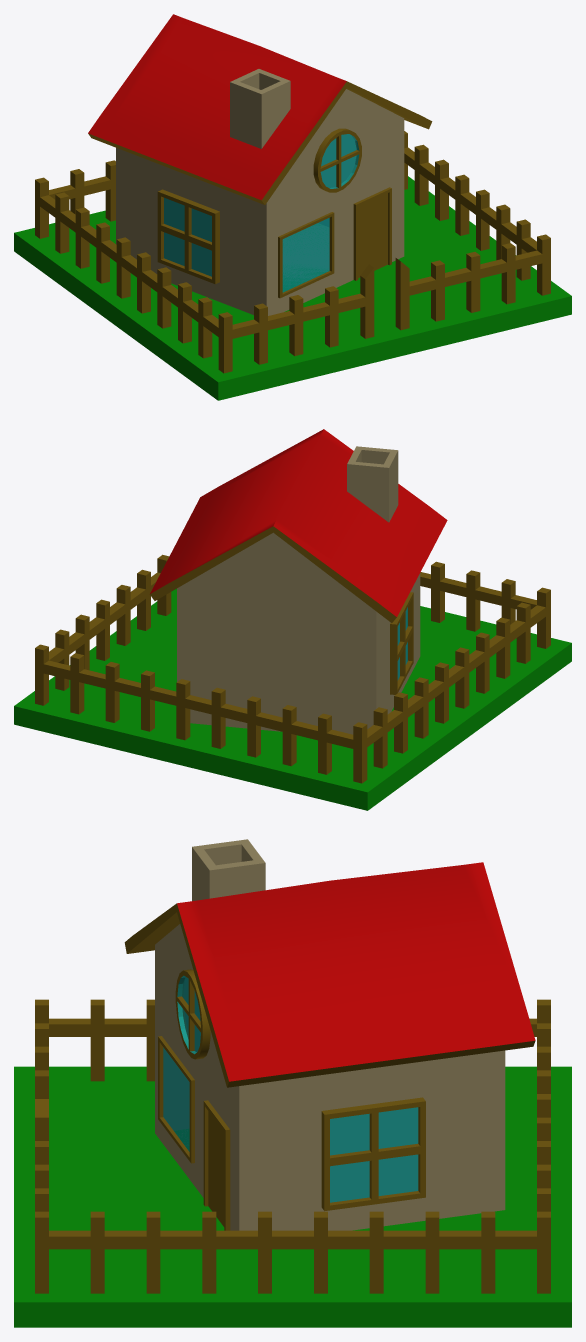
Rendered from HousePrefab2.fbx.
The picture shows the model from 3 angles, top to bottom: view 1: azimuth 30°, elevation 25°; view 2: azimuth 150°, elevation 25°; view 3: azimuth 270°, elevation 25°; orthographic projection. The views are drawn at different scales.
Visible parts, largest first — view 1: House, Ground, pCube43, pCube44, pCube40, Window, pCube39, pCube38, pCube15, pCube16, pCube20, pCube13 (+24 smaller); view 2: House, Ground, pCube41, pCube44, pCube39, pCube43, pCube38, pCube40, pCube29, pCube34, pCube31, pCube18 (+23 smaller); view 3: House, Ground, pCube42, pCube38, pCube44, Window, pCube39, pCube8, pCube10, pCube21, pCube3, pCube5 (+7 smaller).
Part boxes in pixels (x1,y1,x2,y2): House: [88, 14, 432, 315]; Ground: [14, 176, 571, 400]; pCube43: [157, 189, 219, 284]; pCube44: [230, 69, 290, 148]; pCube40: [228, 250, 542, 339]; Window: [313, 128, 361, 192]; pCube39: [37, 195, 220, 336]; pCube38: [404, 147, 536, 252]; pCube15: [395, 258, 409, 330]; pCube16: [360, 264, 374, 338]; pCube20: [218, 312, 232, 373]; pCube13: [466, 252, 480, 312]; House: [149, 429, 447, 734]; Ground: [14, 588, 571, 810]; pCube41: [39, 660, 357, 749]; pCube44: [347, 446, 398, 522]; pCube39: [367, 605, 548, 746]; pCube43: [390, 592, 413, 694]; pCube38: [49, 572, 160, 662]; pCube40: [420, 572, 536, 609]; pCube29: [353, 722, 367, 783]; pCube34: [211, 687, 225, 748]; pCube31: [105, 662, 119, 722]; pCube18: [466, 570, 480, 631]; House: [124, 862, 535, 1230]; Ground: [14, 1066, 571, 1327]; pCube42: [321, 1097, 425, 1211]; pCube38: [42, 1230, 543, 1249]; pCube44: [192, 839, 265, 901]; Window: [175, 969, 210, 1059]; pCube39: [49, 1018, 536, 1036]; pCube8: [369, 1211, 383, 1293]; pCube10: [481, 1211, 495, 1293]; pCube21: [90, 999, 104, 1081]; pCube3: [90, 1211, 104, 1293]; pCube5: [202, 1211, 216, 1293].
Bounding box in the file's own units: 20 × 12.55 × 20.
